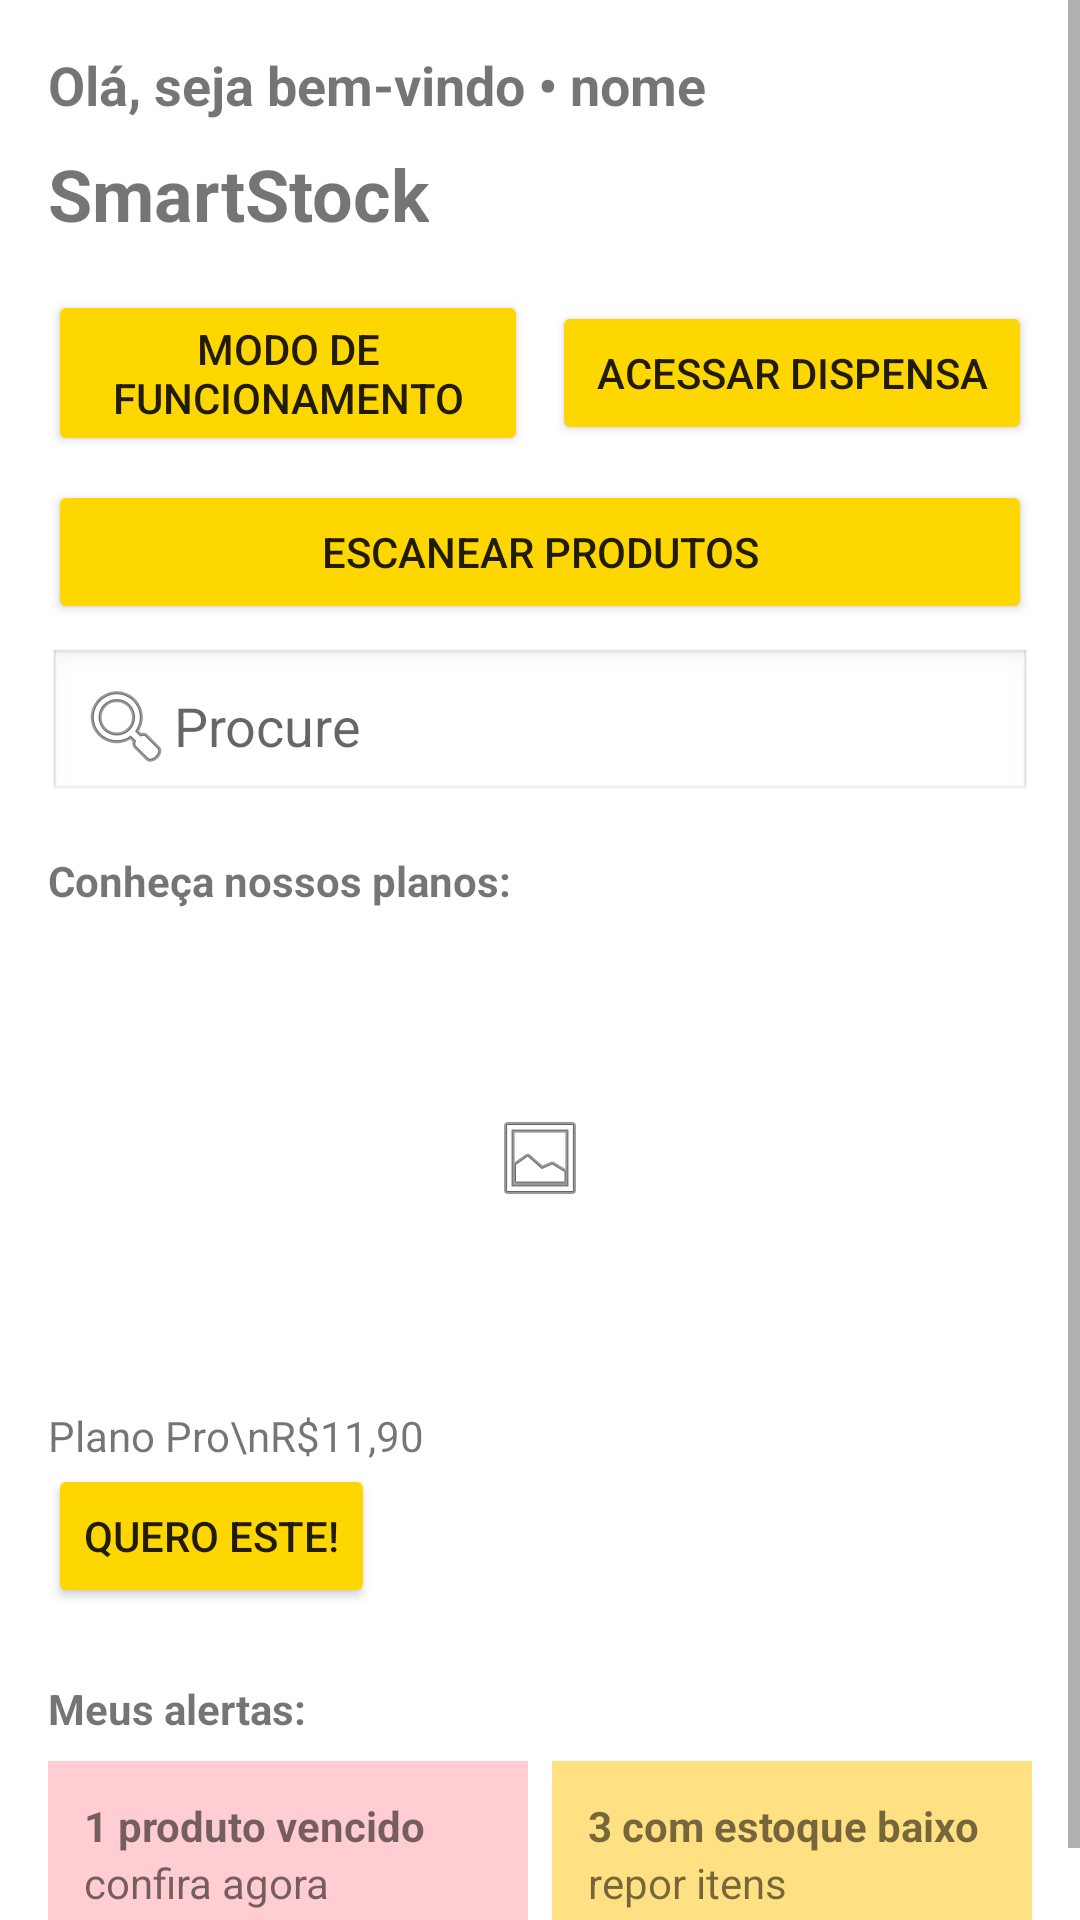

Where to tap for icons on this 1080px x 1920px app screen, as (x=x, y=y):
gallery: (x=540, y=1158)
